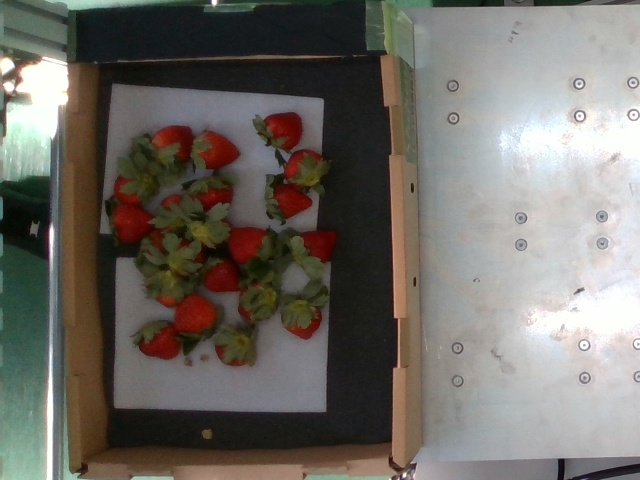strawberry: (196, 130, 240, 172), (151, 125, 192, 168), (228, 228, 273, 267), (174, 294, 216, 334), (113, 205, 154, 244), (138, 321, 179, 360), (283, 299, 322, 340), (189, 182, 233, 216), (265, 112, 303, 151), (285, 149, 324, 187), (215, 327, 252, 366), (203, 258, 245, 292), (297, 231, 339, 265), (269, 186, 312, 219), (166, 239, 205, 275), (240, 285, 276, 323), (113, 174, 147, 206), (152, 270, 182, 306), (157, 196, 189, 224), (145, 231, 168, 266)
